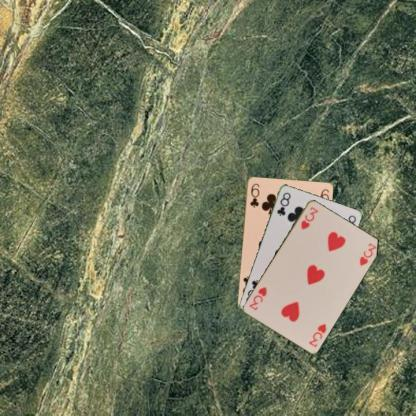3h: (306, 320, 328, 348), (298, 204, 319, 231)
6c: (247, 180, 261, 209)
8c: (274, 190, 292, 218)
